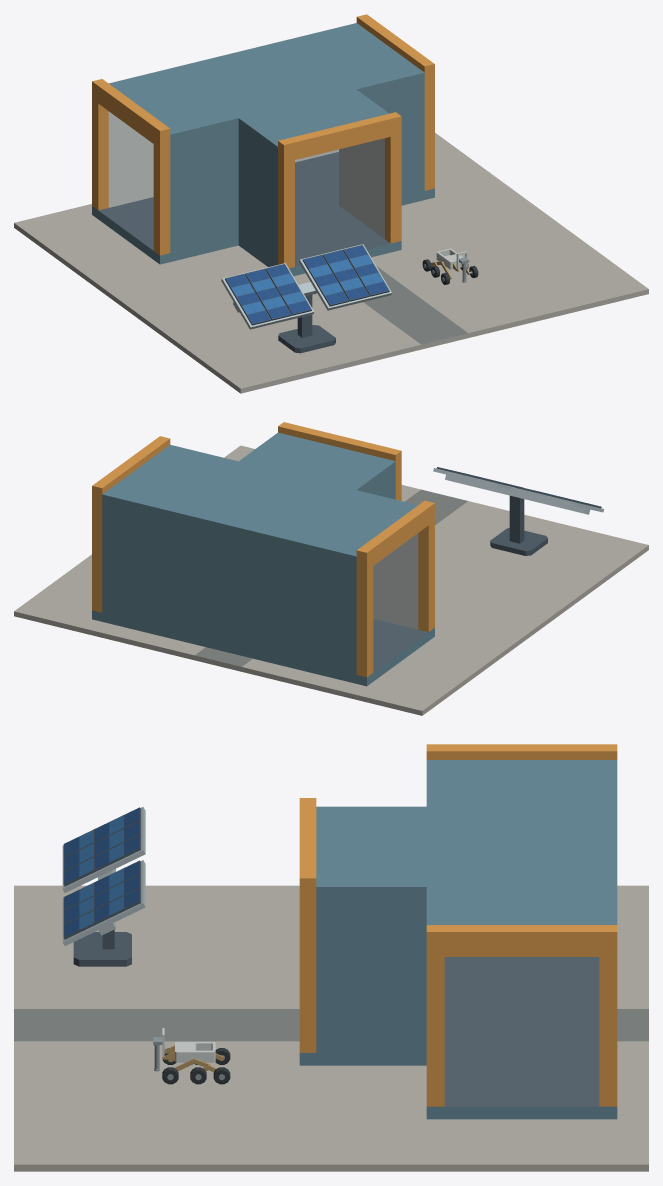
The picture shows the model from 3 angles, top to bottom: view 1: azimuth 30°, elevation 25°; view 2: azimuth 150°, elevation 25°; view 3: azimuth 270°, elevation 25°; orthographic projection. The views are drawn at different scales.
Parts seen in each view (by area): view 1: junction__ContinuousThreeMouthTShell, SCENE_ONLY__SpacebaseApronGround, solar__RightThickSolarPanel_2, solar__LeftThickSolarPanel_2, solar__RightThickSolarPanel_1, solar__LeftThickSolarPanel_3, solar__RightThickSolarPanel_3, solar__LeftThickSolarPanel_1, solar__ChamferedWholeGroundBase, solar__LeftThreeBayContinuousFrame, solar__RightThreeBayContinuousFrame; view 2: junction__ContinuousThreeMouthTShell, SCENE_ONLY__SpacebaseApronGround, solar__ChamferedWholeGroundBase, solar__WholeTransverseBackSpar, solar__WholeCentralMast; view 3: SCENE_ONLY__SpacebaseApronGround, junction__ContinuousThreeMouthTShell, solar__ChamferedWholeGroundBase, solar__RightThickSolarPanel_3, solar__LeftThickSolarPanel_1, solar__RightThickSolarPanel_2, solar__LeftThickSolarPanel_2, solar__RightThickSolarPanel_1, solar__LeftThickSolarPanel_3, solar__RightThreeBayContinuousFrame, solar__LeftThreeBayContinuousFrame, rover__WholeChassisAndOpenSampleReceiver.
Boxes of the visible parts, <box> form: junction__ContinuousThreeMouthTShell: <box>92,14,434,276</box>; SCENE_ONLY__SpacebaseApronGround: <box>14,133,648,393</box>; solar__RightThickSolarPanel_2: <box>322,249,369,301</box>; solar__LeftThickSolarPanel_2: <box>245,268,291,320</box>; solar__RightThickSolarPanel_1: <box>302,254,349,306</box>; solar__LeftThickSolarPanel_3: <box>225,273,271,325</box>; solar__RightThickSolarPanel_3: <box>343,245,389,296</box>; solar__LeftThickSolarPanel_1: <box>265,264,311,315</box>; solar__ChamferedWholeGroundBase: <box>278,325,335,353</box>; solar__LeftThreeBayContinuousFrame: <box>221,263,314,329</box>; solar__RightThreeBayContinuousFrame: <box>299,244,391,310</box>; junction__ContinuousThreeMouthTShell: <box>92,422,434,686</box>; SCENE_ONLY__SpacebaseApronGround: <box>14,445,648,715</box>; solar__ChamferedWholeGroundBase: <box>490,528,547,555</box>; solar__WholeTransverseBackSpar: <box>445,474,589,514</box>; solar__WholeCentralMast: <box>509,495,524,543</box>; SCENE_ONLY__SpacebaseApronGround: <box>14,885,648,1171</box>; junction__ContinuousThreeMouthTShell: <box>299,744,617,1119</box>; solar__ChamferedWholeGroundBase: <box>73,932,131,966</box>; solar__RightThickSolarPanel_3: <box>63,888,140,939</box>; solar__LeftThickSolarPanel_1: <box>63,835,140,886</box>; solar__RightThickSolarPanel_2: <box>63,874,140,924</box>; solar__LeftThickSolarPanel_2: <box>63,821,140,871</box>; solar__RightThickSolarPanel_1: <box>63,860,140,910</box>; solar__LeftThickSolarPanel_3: <box>63,807,140,857</box>; solar__RightThreeBayContinuousFrame: <box>62,860,145,945</box>; solar__LeftThreeBayContinuousFrame: <box>62,807,145,892</box>; rover__WholeChassisAndOpenSampleReceiver: <box>175,1042,215,1062</box>.
Bounding box in the file's own units: 10.4 × 3.37 × 10.
